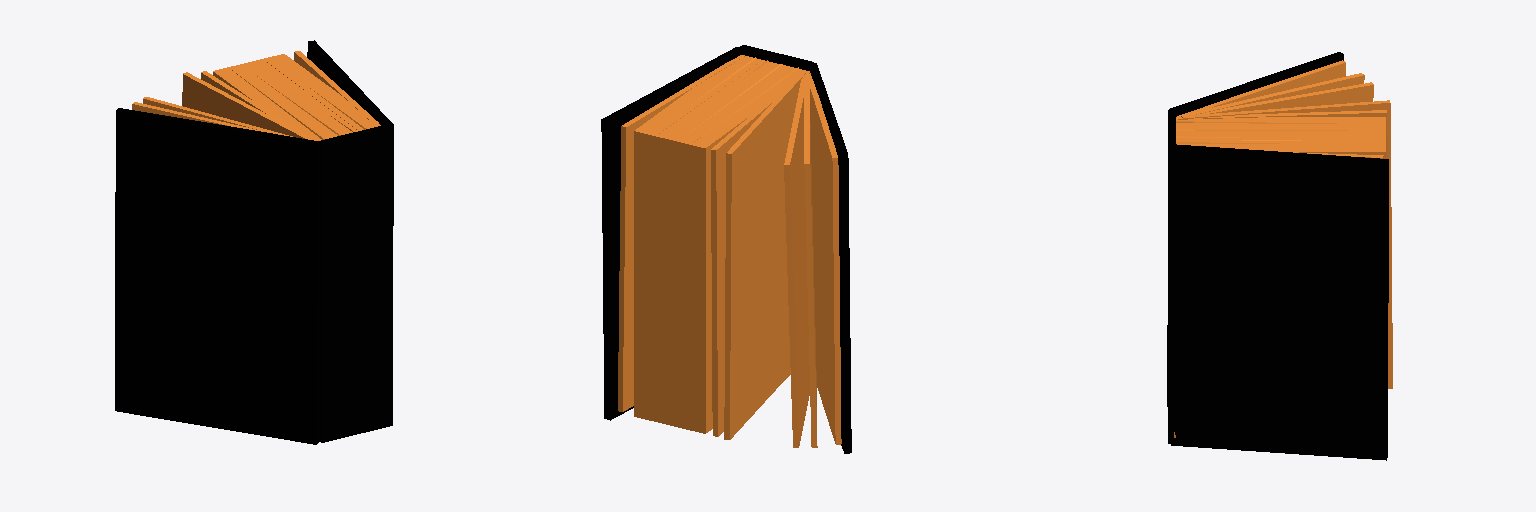
3 views of the same model, side by side, from view 1: azimuth 30°, elevation 25°; view 2: azimuth 150°, elevation 25°; view 3: azimuth 270°, elevation 25° (orthographic).
Parts seen in each view (by area): view 1: group[number redacted], group[number redacted], group[number redacted], group[number redacted], group[number redacted], group[number redacted], group[number redacted], group[number redacted], group[number redacted]; view 2: group[number redacted], group[number redacted], group[number redacted], group[number redacted], group[number redacted], group[number redacted], group[number redacted], group[number redacted], group[number redacted], group[number redacted]; view 3: group[number redacted], group[number redacted], group[number redacted], group[number redacted], group[number redacted], group[number redacted], group[number redacted], group[number redacted], group[number redacted].
Part boxes in pixels (x1,y1,x2,y2): group[number redacted]: (115,108,319,444); group[number redacted]: (318,124,392,442); group[number redacted]: (213,54,375,140); group[number redacted]: (182,72,316,140); group[number redacted]: (307,40,393,225); group[number redacted]: (294,51,380,126); group[number redacted]: (143,97,292,136); group[number redacted]: (132,102,273,133); group[number redacted]: (201,71,307,135); group[number redacted]: (634,56,809,433); group[number redacted]: (724,72,805,439); group[number redacted]: (809,72,841,444); group[number redacted]: (601,47,741,420); group[number redacted]: (784,76,809,447); group[number redacted]: (618,55,744,411); group[number redacted]: (711,70,808,436); group[number redacted]: (810,63,851,453); group[number redacted]: (804,72,817,447); group[number redacted]: (739,45,813,70); group[number redacted]: (1171,144,1388,460); group[number redacted]: (1176,117,1385,158); group[number redacted]: (1182,100,1392,388); group[number redacted]: (1197,82,1373,114); group[number redacted]: (1167,52,1343,406); group[number redacted]: (1168,110,1175,443); group[number redacted]: (1177,60,1345,116); group[number redacted]: (1180,73,1364,117); group[number redacted]: (1177,110,1387,158).
Bounding box in the file's own units: 0.3464 × 0.443 × 0.3013.